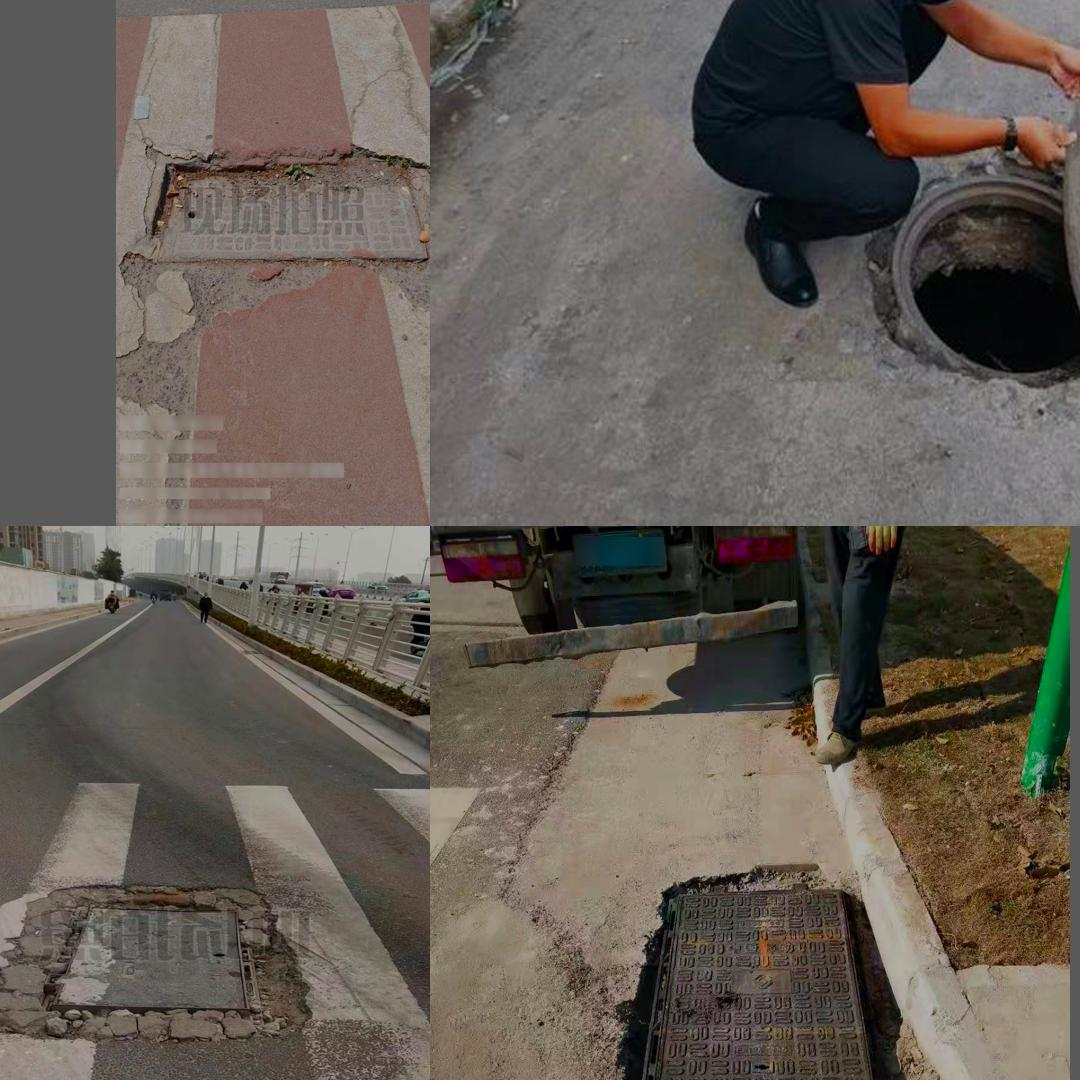circle: (805, 108, 1080, 417), (616, 875, 914, 1080), (141, 157, 430, 268)
